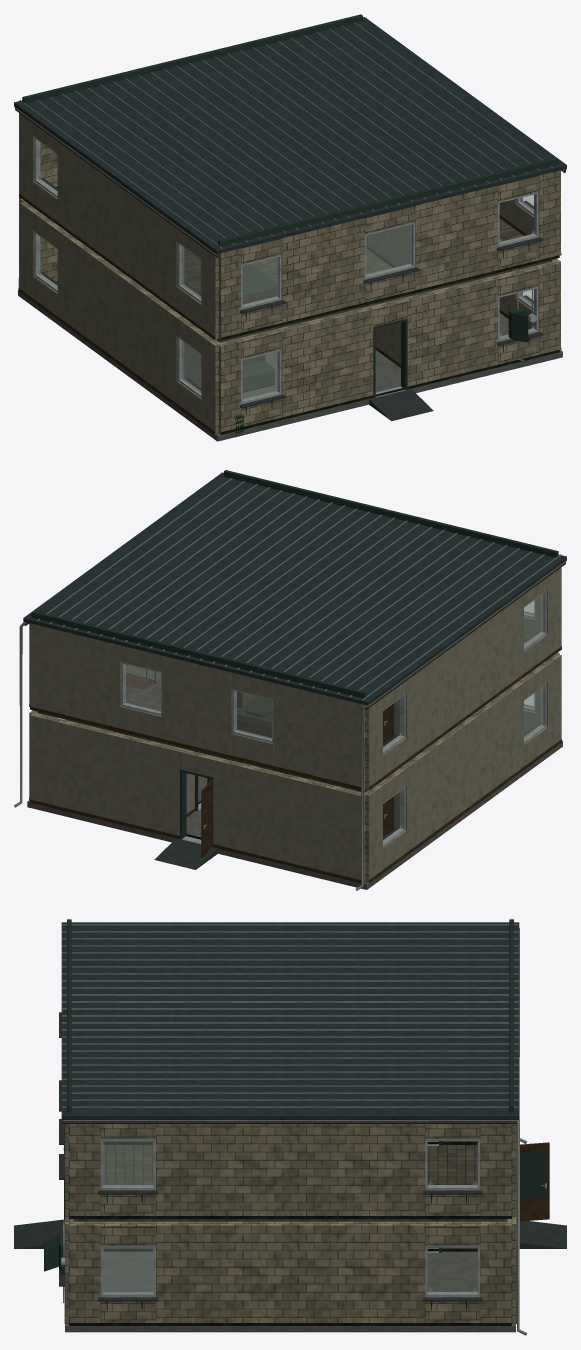
File: GR05_03_TexasHouse.glb
The picture shows the model from 3 angles, top to bottom: view 1: azimuth 30°, elevation 25°; view 2: azimuth 150°, elevation 25°; view 3: azimuth 270°, elevation 25°; orthographic projection. The views are drawn at different scales.
Parts seen in each view (by area): view 1: Static; view 2: Static, Door_05; view 3: Static, Door_05.
Boxes of the visible parts, <box> form: Static: <box>14,14,566,441</box>; Static: <box>14,470,566,890</box>; Door_05: <box>201,780,212,857</box>; Static: <box>14,919,566,1335</box>; Door_05: <box>520,1142,549,1221</box>.
Size of the model in its own units: 12.66 by 6.73 by 15.
Materials: 20 (17 with a texture image).
